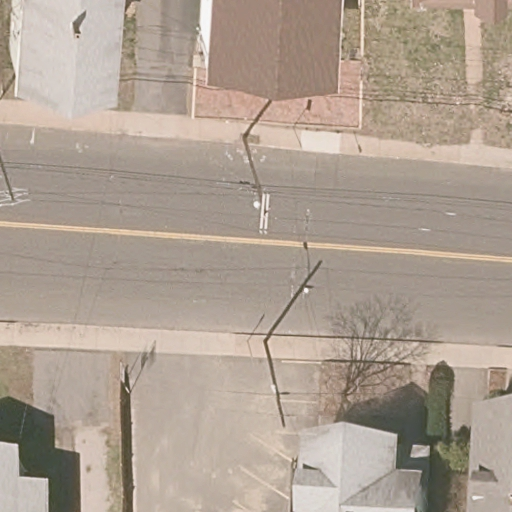DT: (240, 134, 274, 236), (262, 339, 289, 426)
